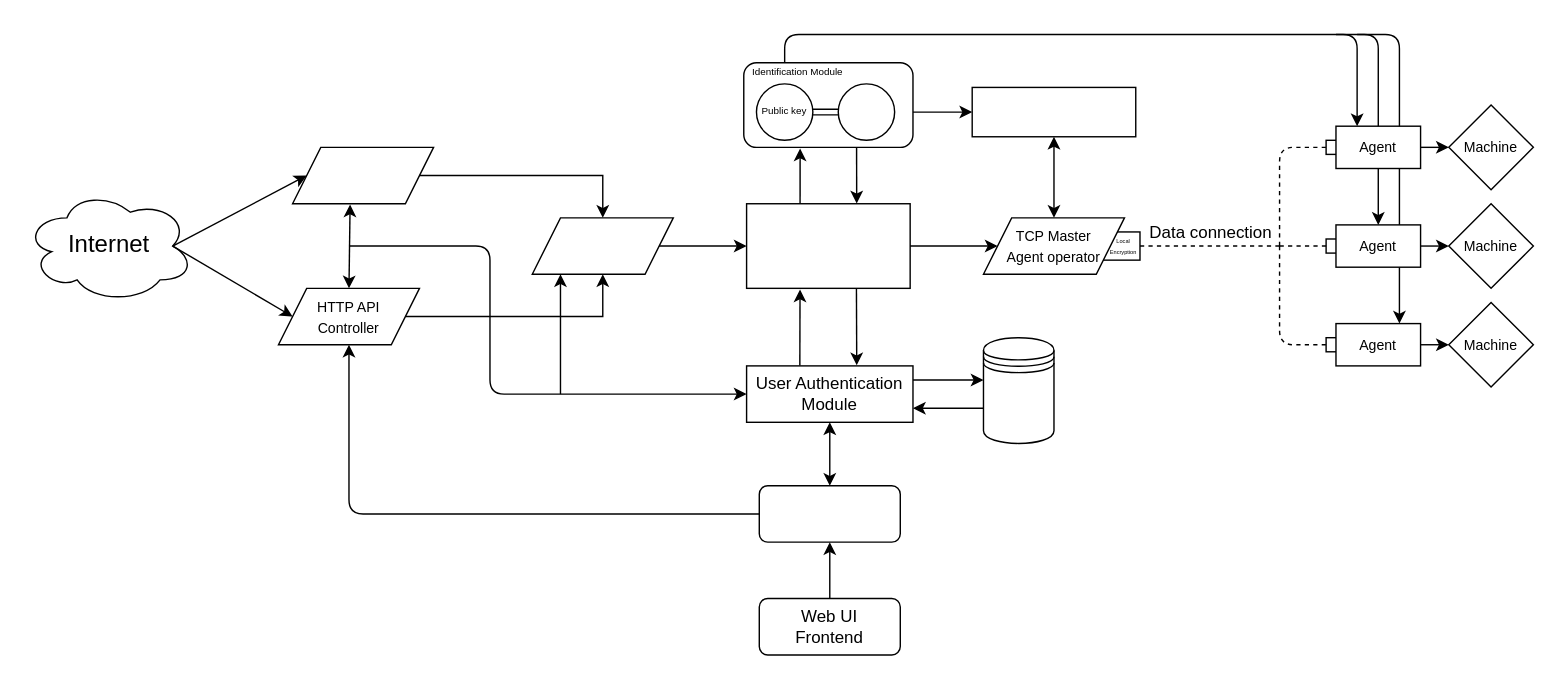
Image size: 1558x680. Some labels were removed from this diagram. The shapes that lost their labels are listed below. From the top down, each one's centre as x and y in pixels, then its label:
[866,111]: Private key
[1053,111]: Agent Authentication Module
[362,175]: TCP Socket Controller
[602,245]: Programmatic API Controller
[827,245]: Core System
[1018,389]: Users
[829,513]: Web UI Backend
